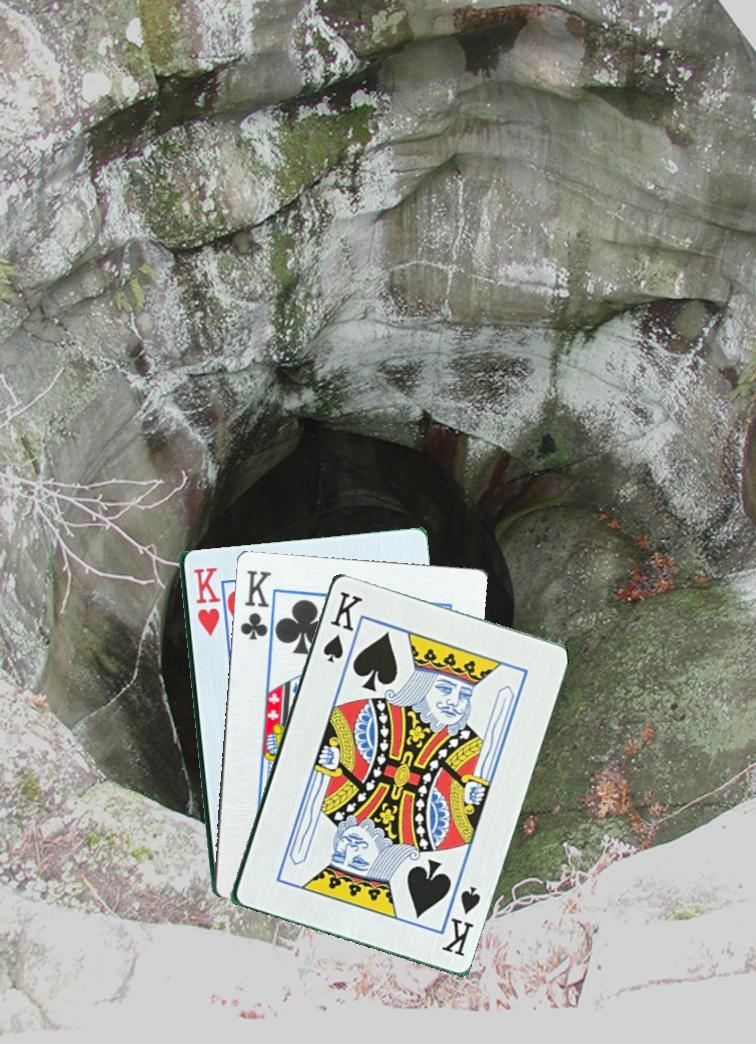kc: (236, 565, 273, 643)
kh: (189, 564, 221, 641)
ks: (435, 882, 484, 963), (319, 587, 365, 665)
